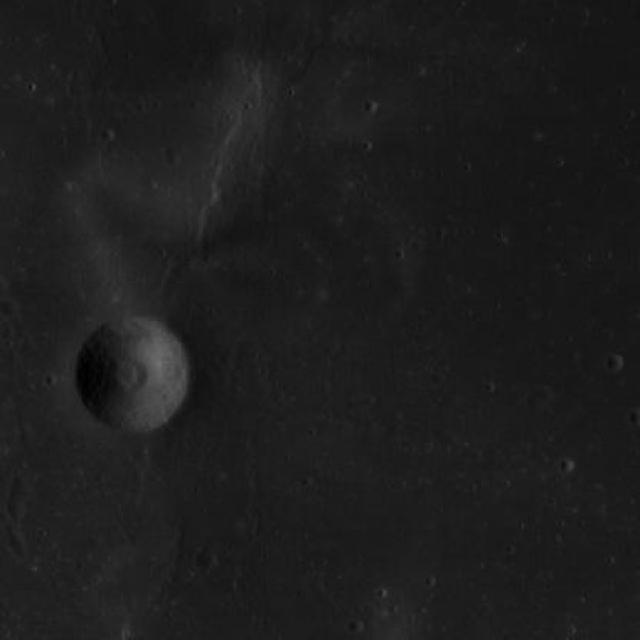crater: (76, 318, 192, 433), (196, 550, 218, 572), (12, 480, 34, 502), (8, 532, 30, 554), (2, 298, 21, 317), (609, 357, 626, 374), (10, 503, 27, 520), (536, 384, 552, 401)
